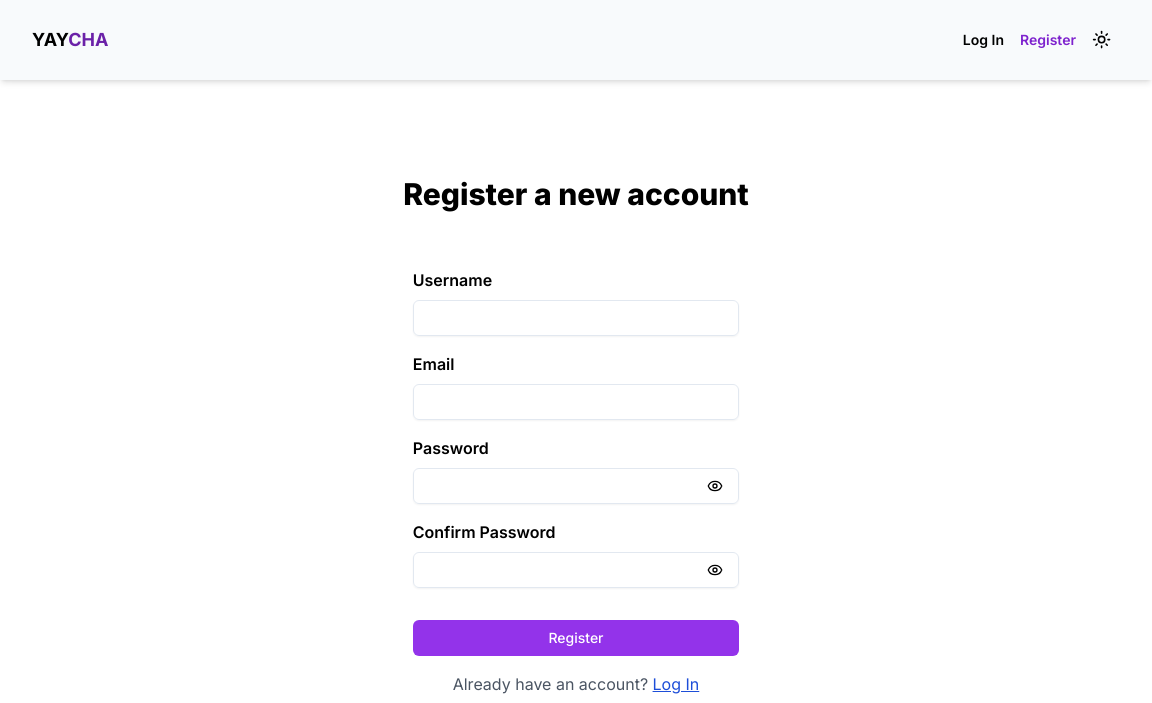
Scenario: Register Page › should show an error for different passwords
Simulate entering invalid credentials
In the field named "username": (576, 318) [413, 300, 739, 336], type "john"
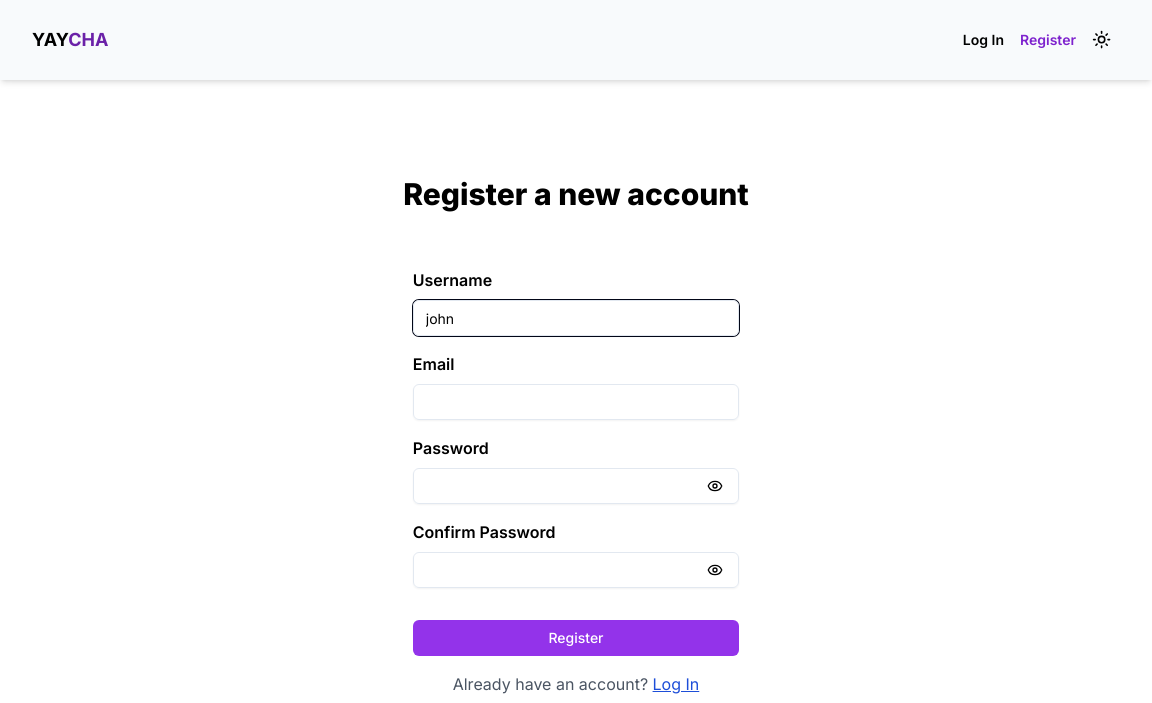
In the field named "email": (576, 402) [413, 384, 739, 420], type "john@example.com"
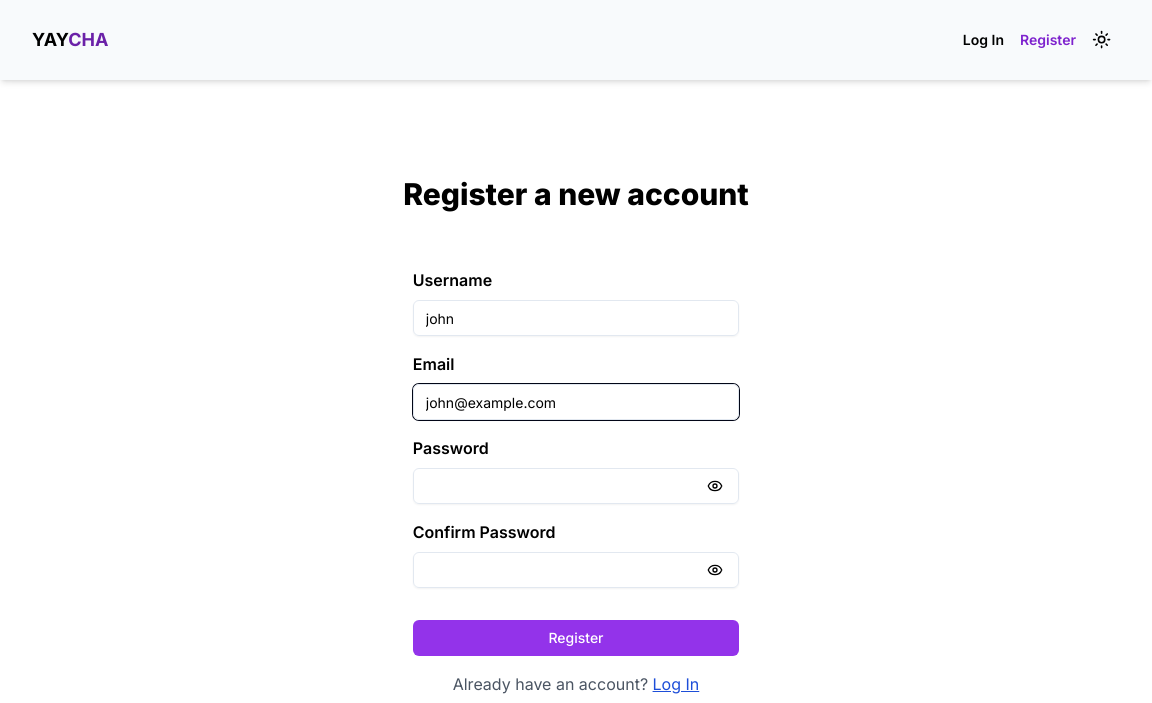
In the password field named "password": (576, 486) [413, 468, 739, 504], type "password"
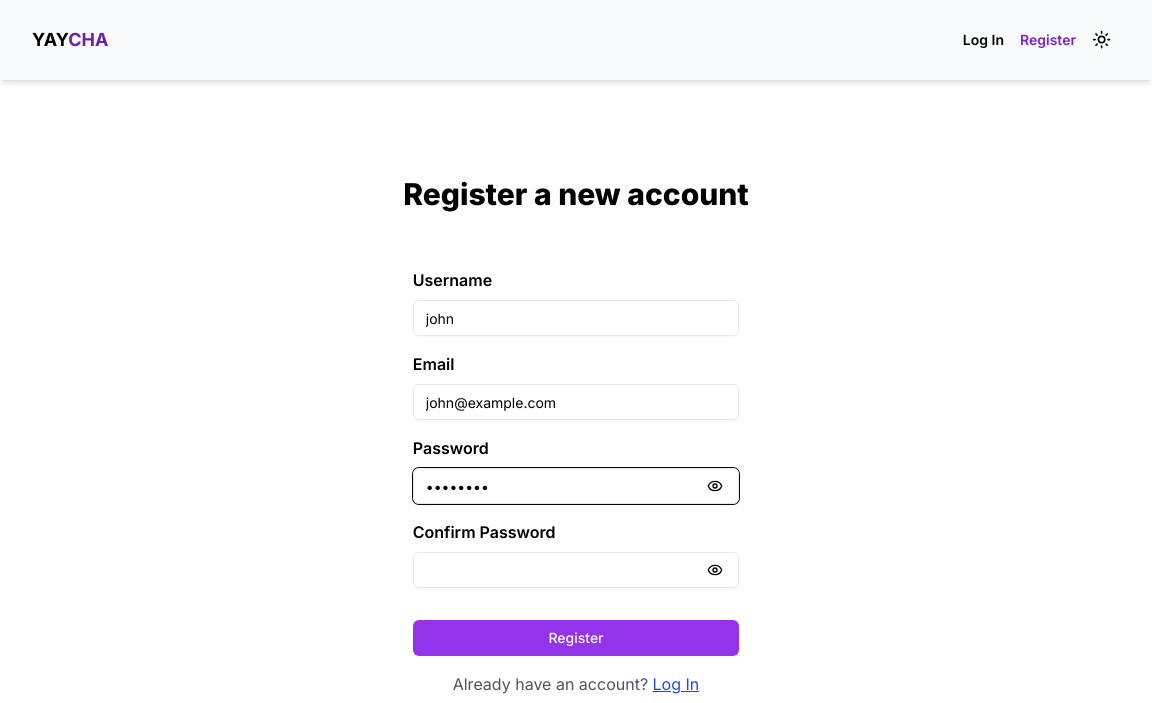
In the password field named "confirmPassword": (576, 570) [413, 552, 739, 588], type "wrongpassword"
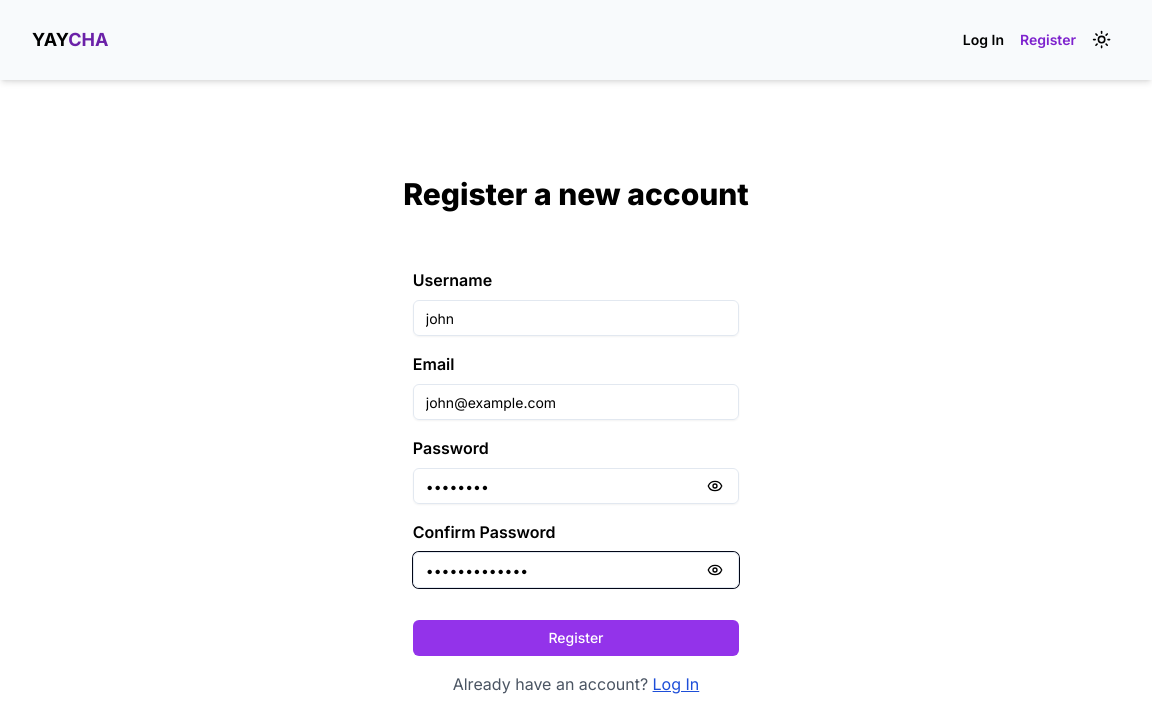
Click the submit button: click(576, 638) [413, 620, 739, 656]
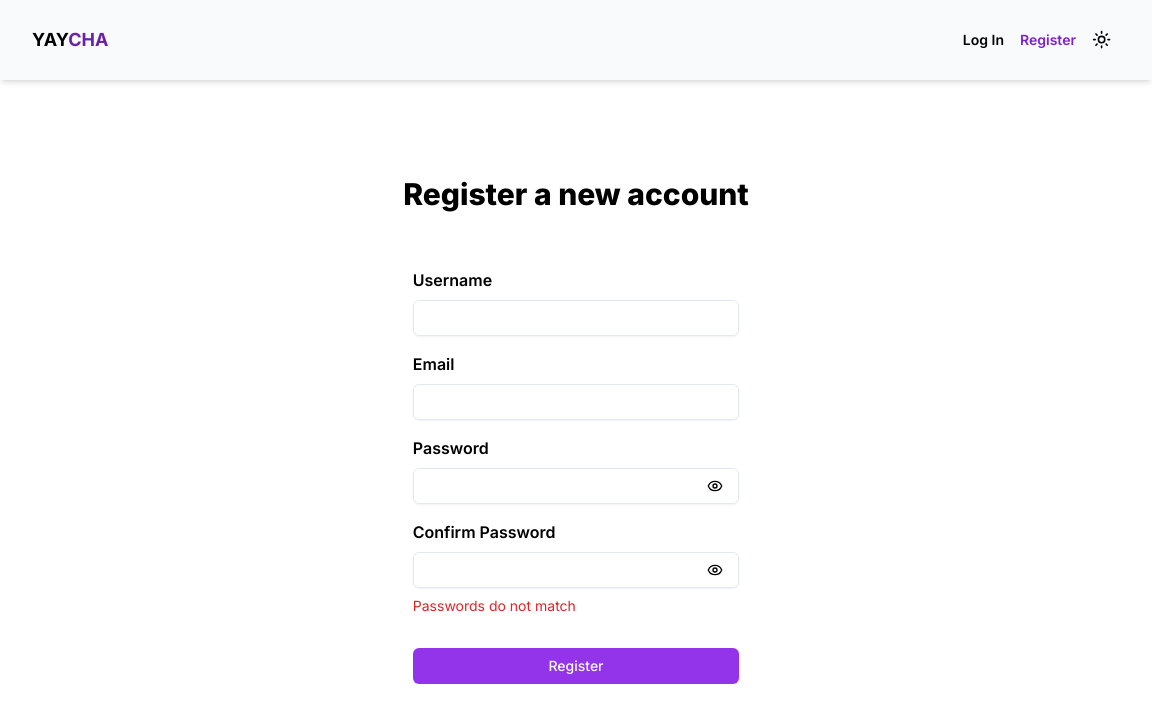
Check: the text "Passwords do not match" is shown, box [413, 597, 576, 614]
